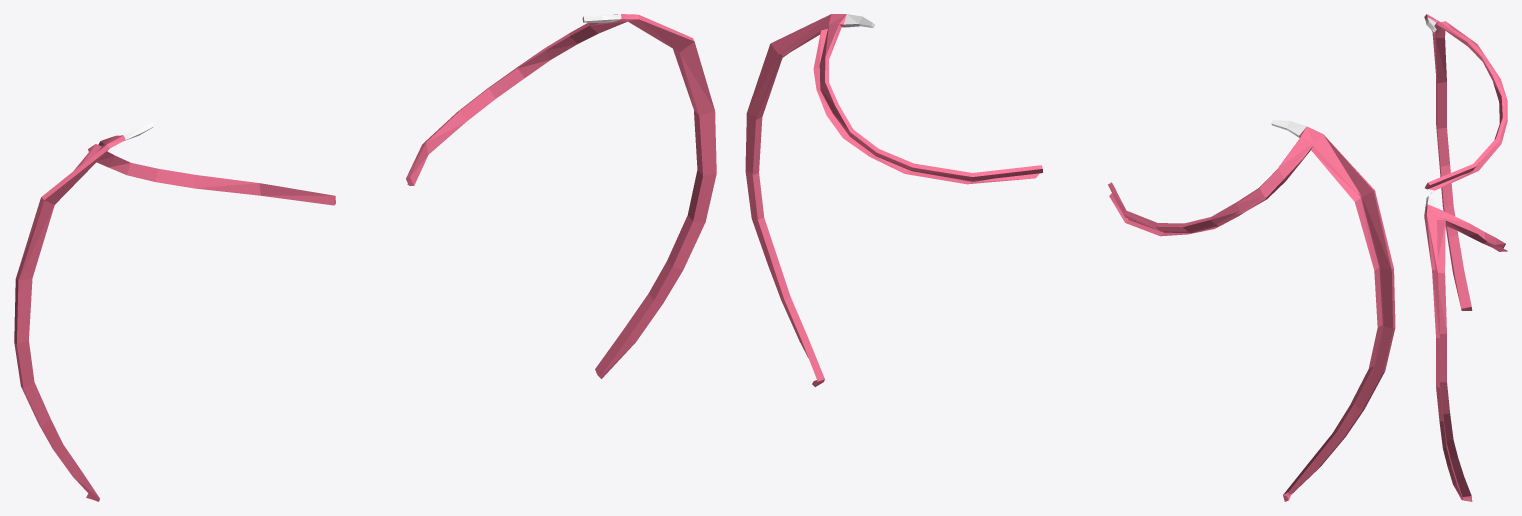
File: dpBdyTxt01_c.obj
3 renders of one model, left to right at view 1: azimuth 30°, elevation 25°; view 2: azimuth 150°, elevation 25°; view 3: azimuth 270°, elevation 25°, orthographic. The views are drawn at different scales.
Visible parts, largest first — view 1: dpBdyTxt01_c.obj; view 2: dpBdyTxt01_c.obj; view 3: dpBdyTxt01_c.obj.
Part boxes in pixels (x1,y1,x2,y2): dpBdyTxt01_c.obj: [14, 14, 716, 501]; dpBdyTxt01_c.obj: [745, 14, 1395, 501]; dpBdyTxt01_c.obj: [1424, 14, 1507, 501].
Size of the model in its own units: 6.75 by 3.55 by 0.9052.
